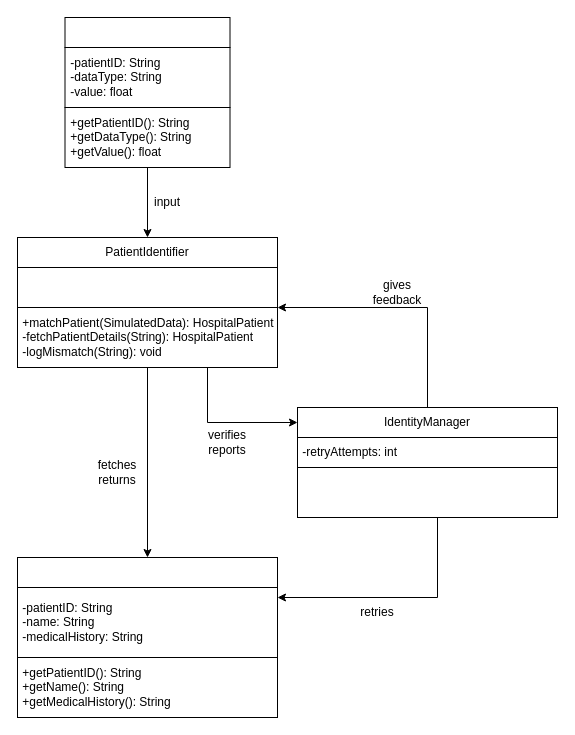
The diagram is 575 pixels wide and 735 high, and some of its shapes have lost their labels. The centre of each missing label's shape, as x and y in pixels:
"+verifyPatientMatch(SimulatedData): bool +retryMatch(String): HospitalPatient" belongs at (427,492).
"-identityManager: IdentityManager" belongs at (147,287).
"HospitalPatient" belongs at (147,572).
"Simulated Data" belongs at (147,32).
